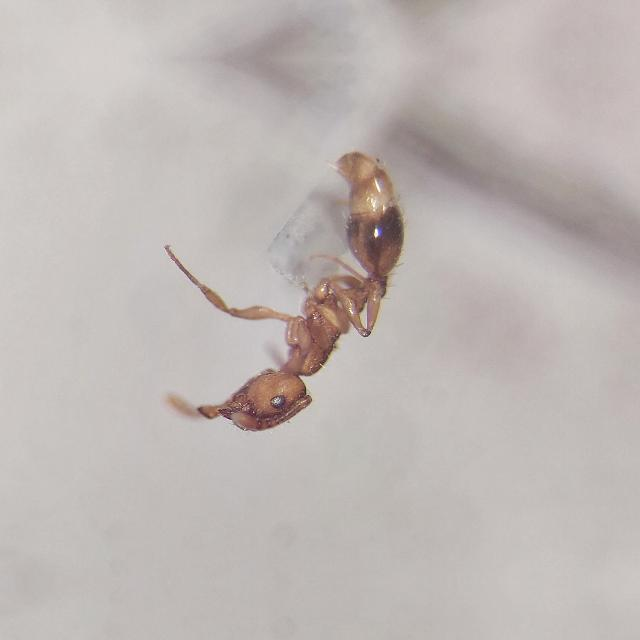Temnothorax: (158, 119, 442, 464)
